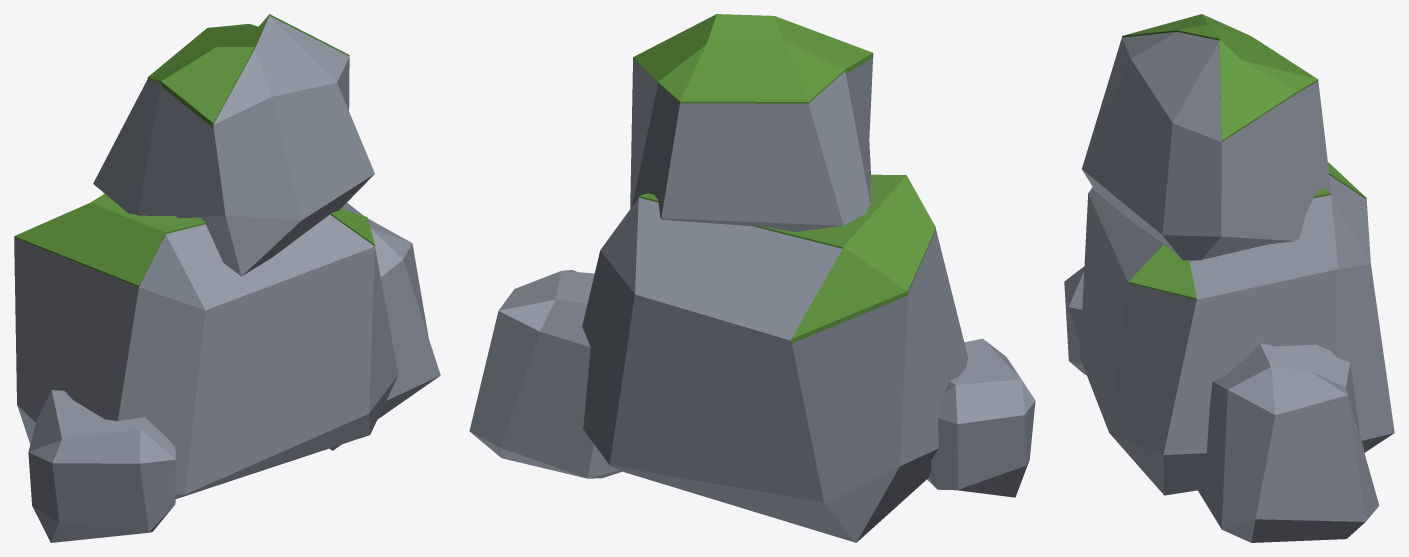
The model's file is RidgeRock1.fbx.
The picture shows the model from 3 angles, left to right: view 1: azimuth 30°, elevation 25°; view 2: azimuth 150°, elevation 25°; view 3: azimuth 270°, elevation 25°; orthographic projection.
Visible parts, largest first — view 1: Rock, Moss; view 2: Rock, Moss; view 3: Rock, Moss.
Part boxes in pixels (<box>): Rock: <box>14,16,440,542</box>; Moss: <box>14,14,374,287</box>; Rock: <box>469,58,1035,542</box>; Moss: <box>633,14,935,343</box>; Rock: <box>1064,32,1394,542</box>; Moss: <box>1122,14,1366,299</box>.
Size of the model in its own units: 14.33 by 13.84 by 9.06.
